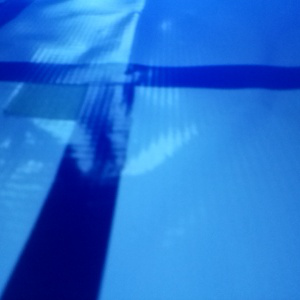bottom_left: (3, 64, 132, 120)
